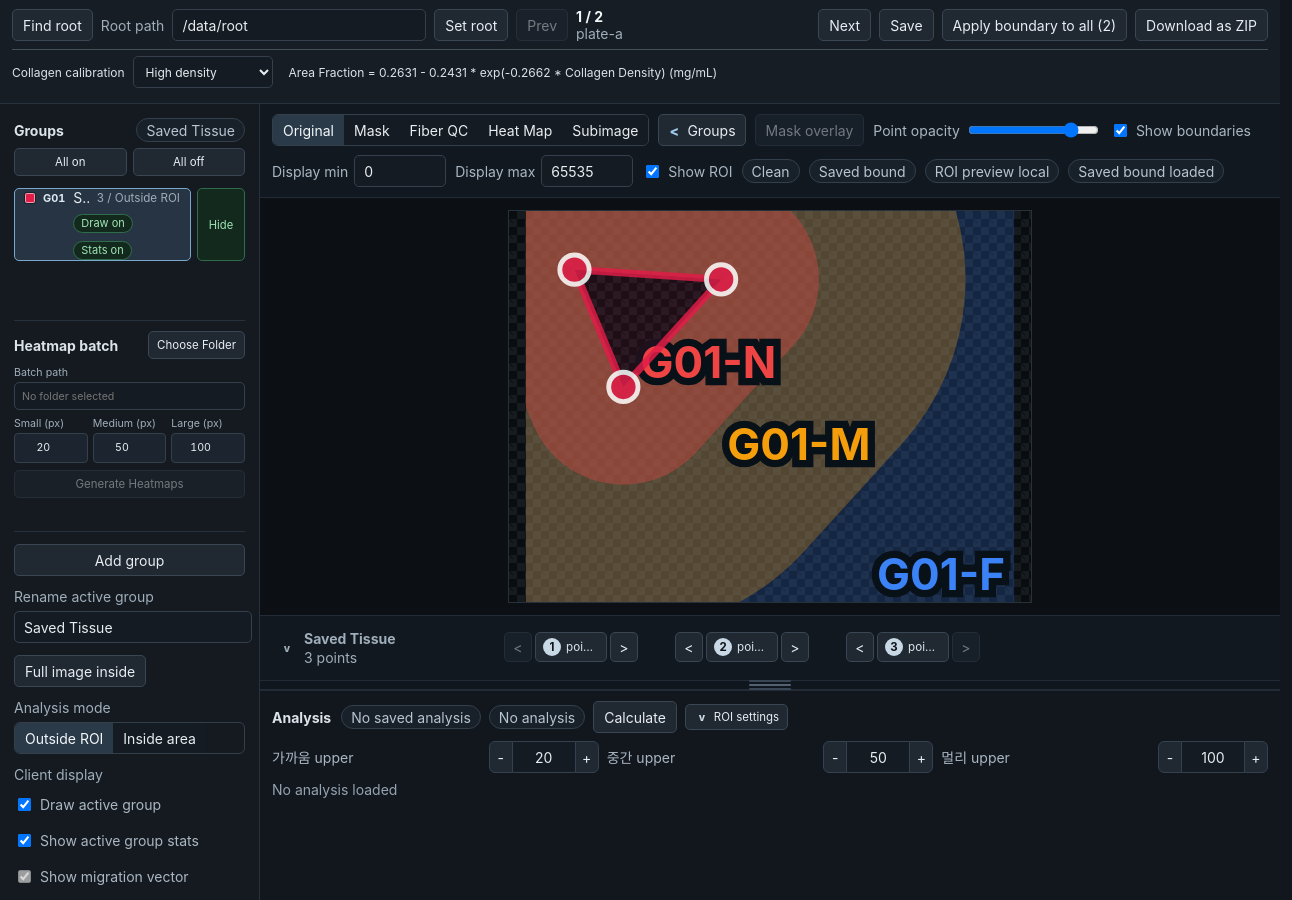
Test: App › sets a typed root again after an existing root is loaded
Expected: the button "Saved Tissue" is shown, [14, 188, 191, 261]
Replace the text in the field labelled "Root path" with "/new/root" at (299, 25), box [172, 9, 426, 41]
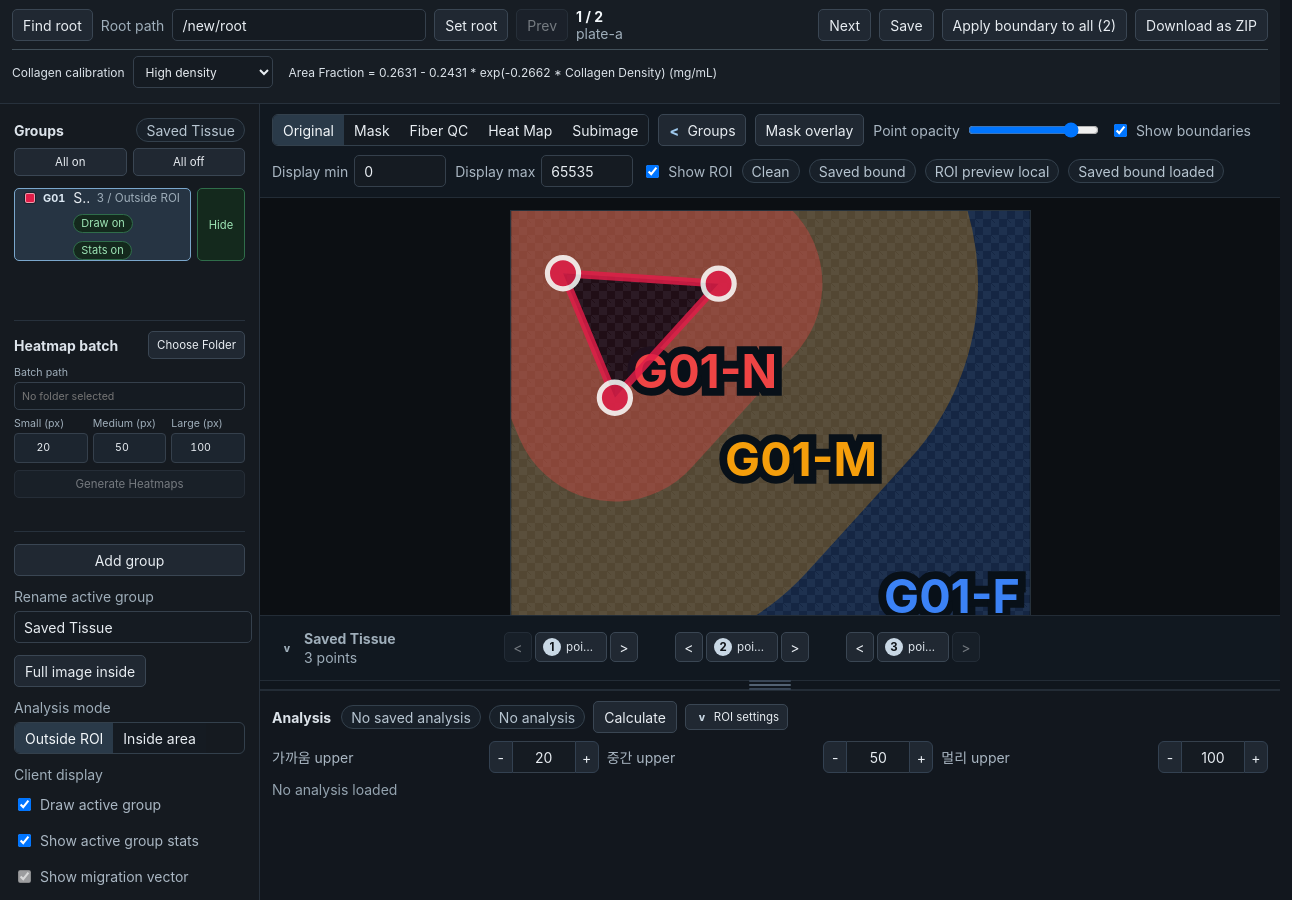
Click the button "Set root" at (471, 25), box [434, 9, 508, 41]
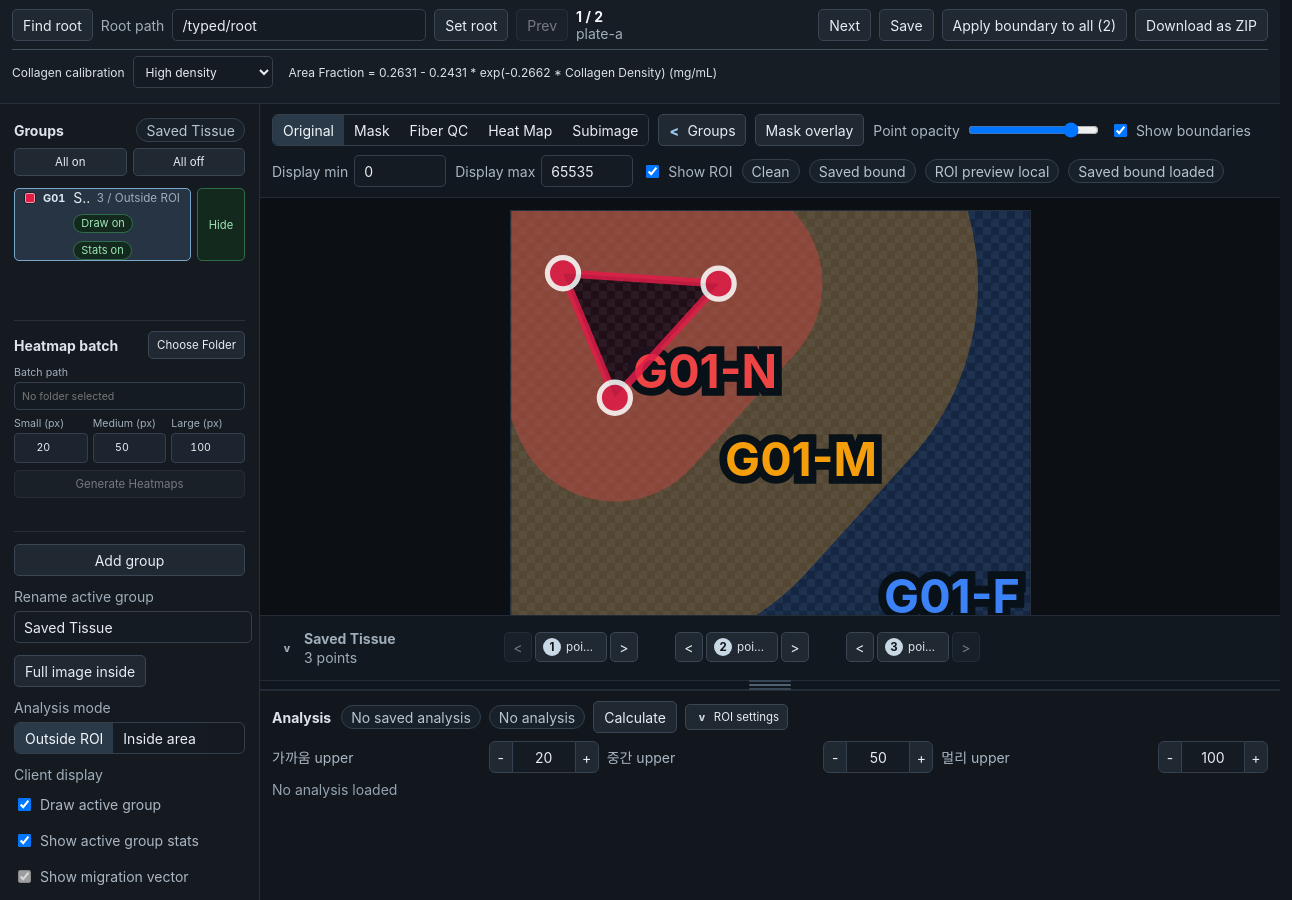
Now the field labelled "Root path" holds "/typed/root", box [172, 9, 426, 41]
